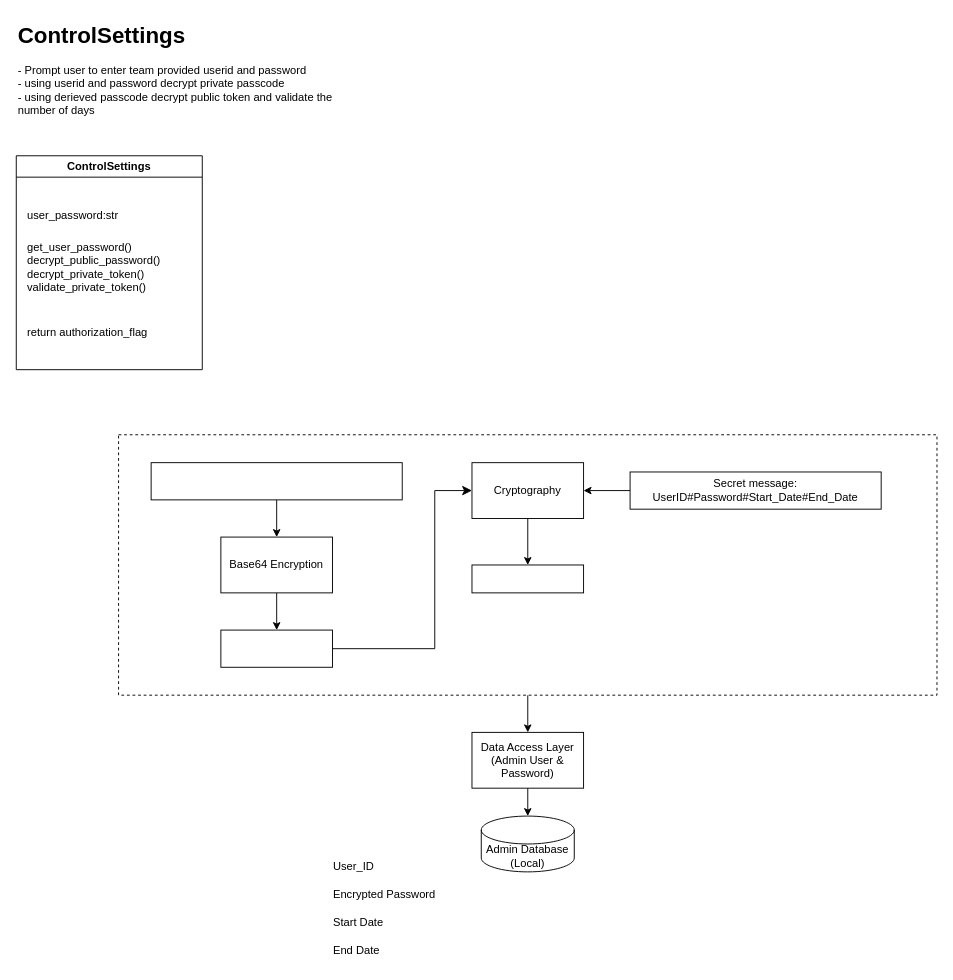
Image size: 953x980. Some labels were removed from this diagram. Each missing label, with the box of its shape:
Private Key: (471, 564, 584, 593)
PublicKey: (220, 629, 332, 667)
UserID#Password: (150, 462, 402, 500)
